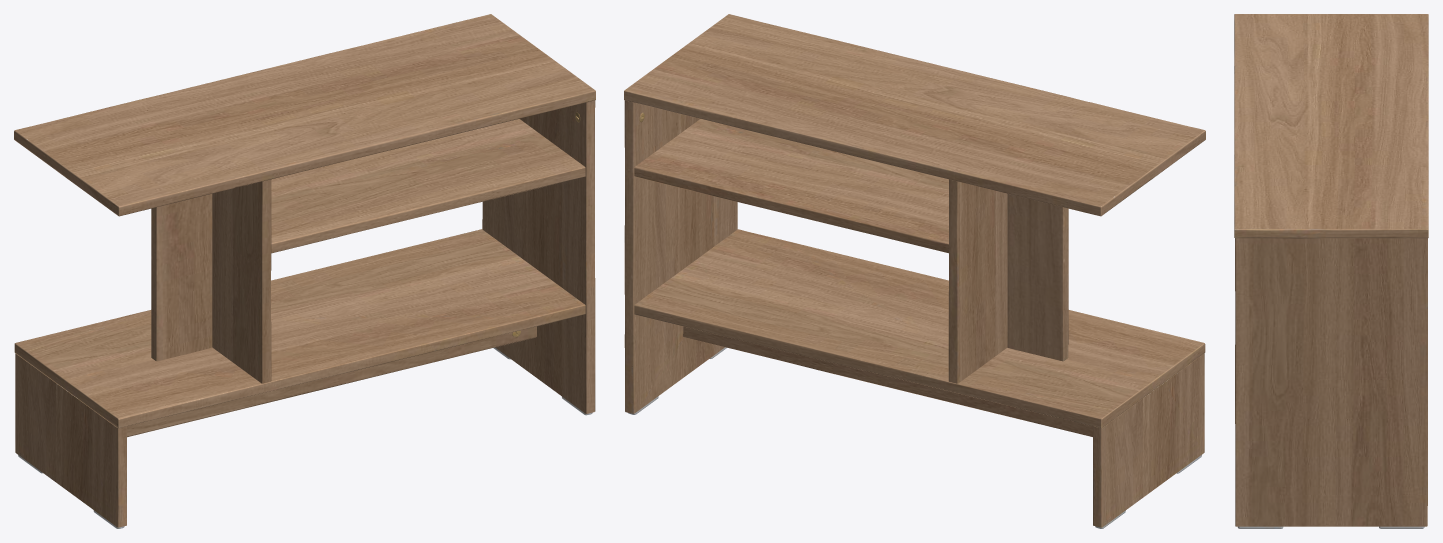
File: holmerud_appoint.glb
3 renders of one model, left to right at view 1: azimuth 30°, elevation 25°; view 2: azimuth 150°, elevation 25°; view 3: azimuth 270°, elevation 25°, orthographic. The views are drawn at different scales.
Visible parts, largest first — view 1: model; view 2: model; view 3: model.
Boxes of the visible parts, x1=… form: model: x1=14, y1=14, x2=595, y2=528; model: x1=624, y1=14, x2=1205, y2=528; model: x1=1234, y1=14, x2=1428, y2=528.
Bounding box in the file's own units: 0.805 × 0.523 × 0.307.
Materials: 1 (1 with a texture image).
